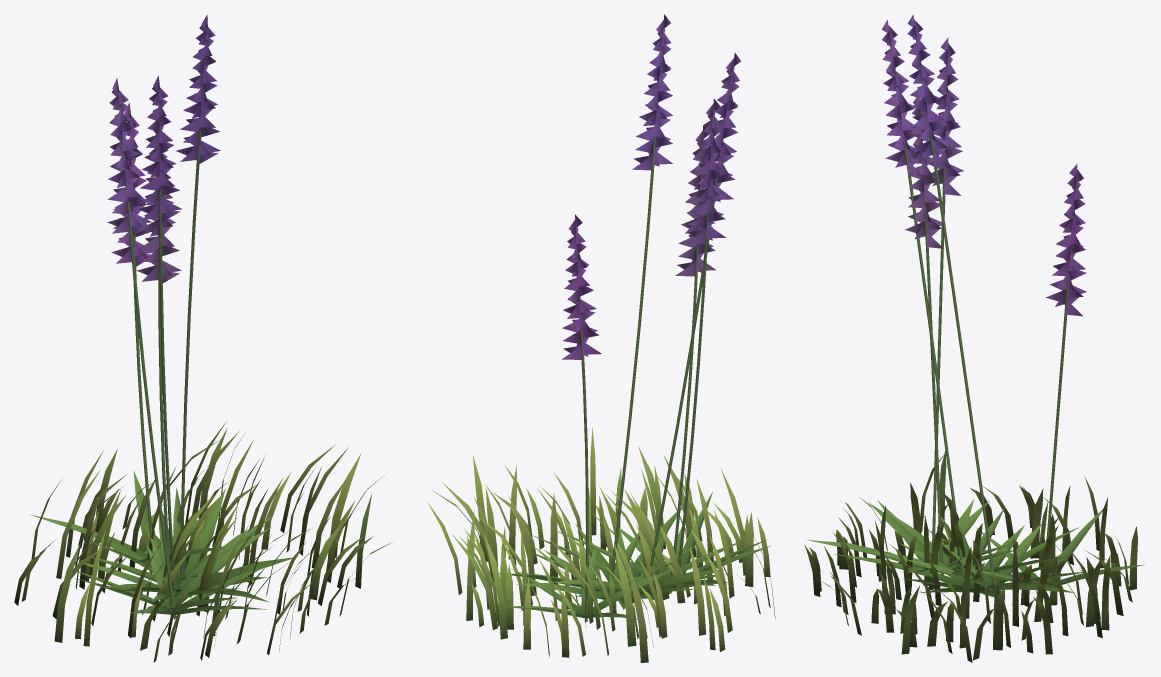
Rendered from eco_flower_spike_clump_LOD0.glb.
3 renders of one model, left to right at view 1: azimuth 30°, elevation 25°; view 2: azimuth 150°, elevation 25°; view 3: azimuth 270°, elevation 25°, orthographic. The views are drawn at different scales.
Visible parts, largest first — view 1: eco_flower_spike_clump_LOD0; view 2: eco_flower_spike_clump_LOD0; view 3: eco_flower_spike_clump_LOD0.
Boxes of the visible parts, left/top/right/bottom form: eco_flower_spike_clump_LOD0: left=14, top=14, right=392, bottom=662; eco_flower_spike_clump_LOD0: left=427, top=14, right=775, bottom=662; eco_flower_spike_clump_LOD0: left=804, top=14, right=1144, bottom=662.
Size of the model in its own units: 0.489 by 0.8343 by 0.452.
